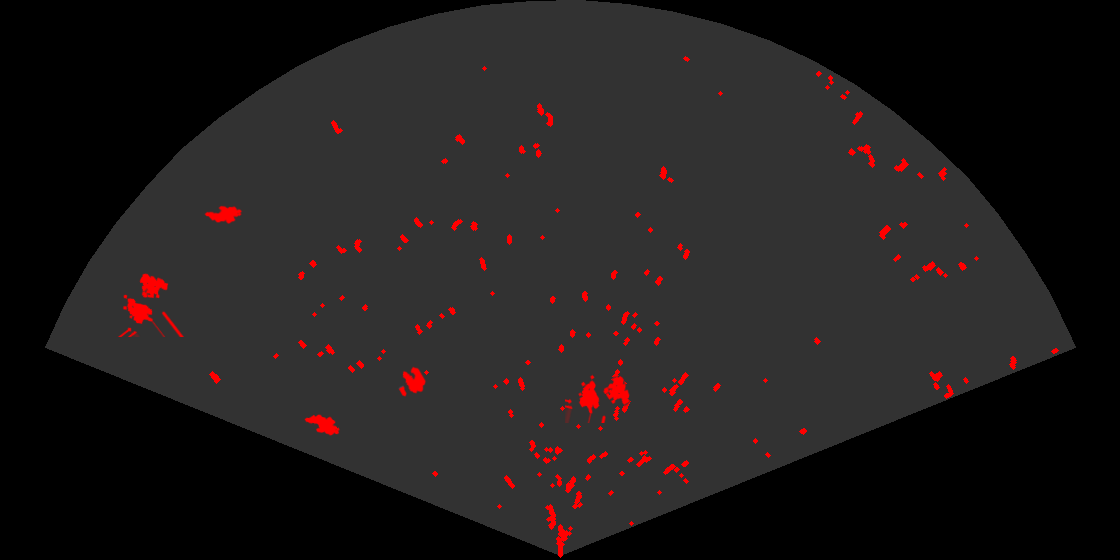AUV: (303, 413, 341, 437), (203, 204, 244, 225)
ball: (397, 365, 428, 398)
cage: (116, 272, 185, 337), (565, 373, 631, 423)
